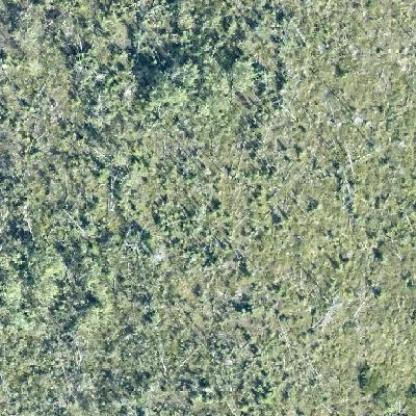tree-top: (0, 234, 67, 311), (140, 56, 202, 105), (7, 2, 45, 50), (224, 54, 259, 94), (356, 360, 387, 396)
